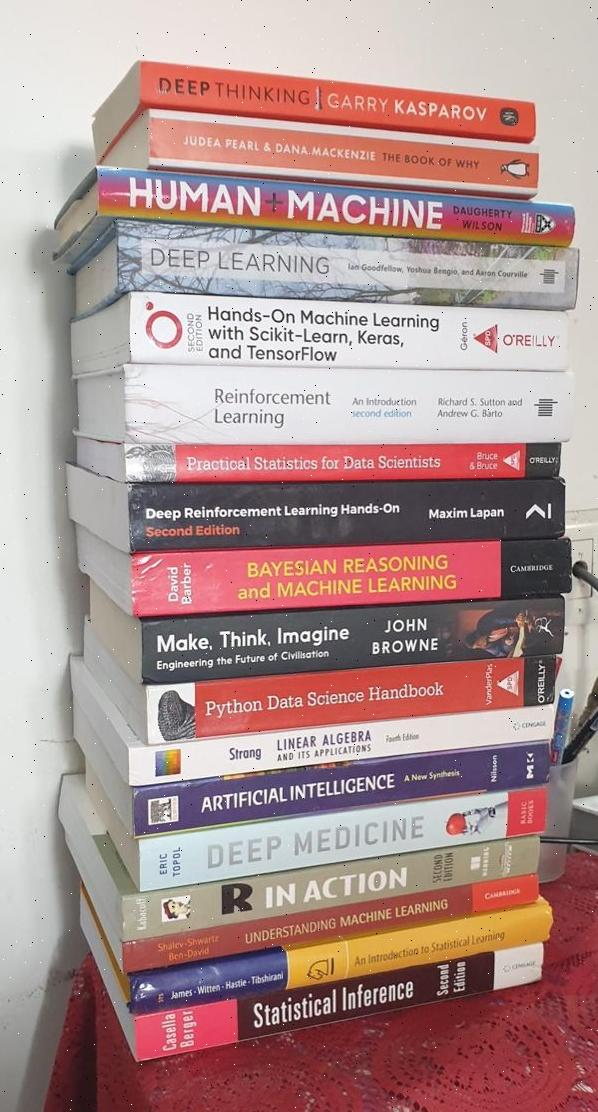book: (109, 733, 547, 844), (75, 224, 574, 317), (90, 164, 572, 255), (104, 107, 552, 202), (109, 56, 537, 151), (115, 535, 546, 622), (106, 473, 571, 548)
